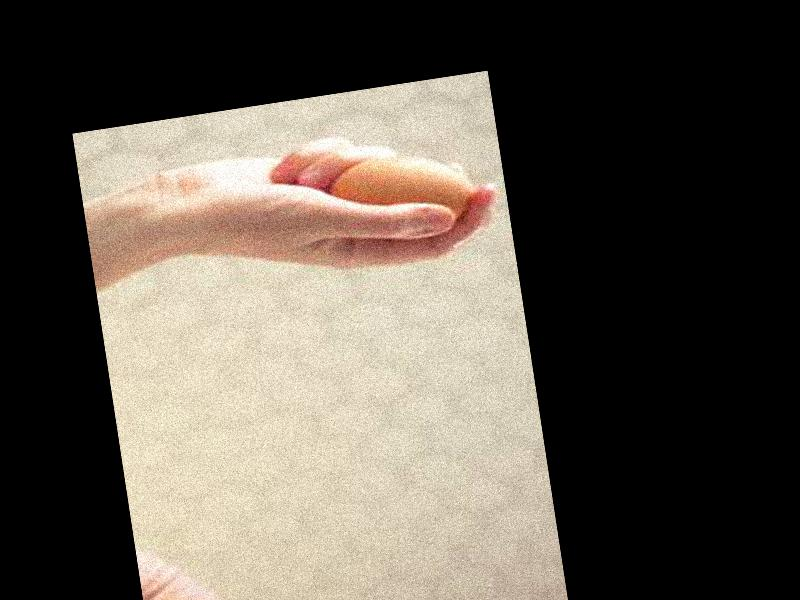Eggs: (326, 141, 477, 243)
